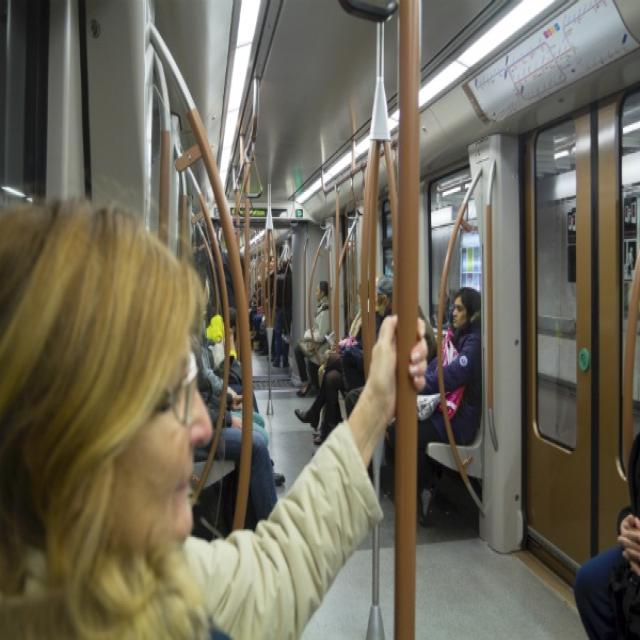body: (0, 200, 430, 638), (175, 233, 292, 529), (415, 284, 484, 528), (292, 275, 383, 440), (573, 431, 640, 640), (291, 278, 333, 398), (413, 300, 437, 364), (373, 279, 396, 320)
